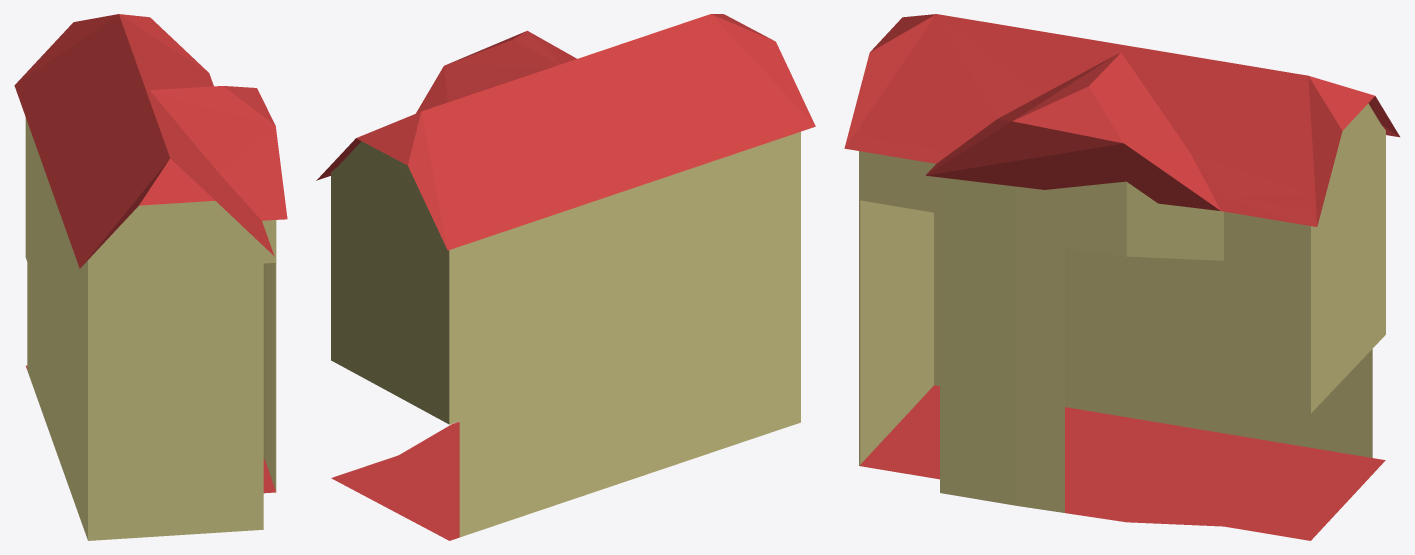
The picture shows the model from 3 angles, left to right: view 1: azimuth 30°, elevation 25°; view 2: azimuth 150°, elevation 25°; view 3: azimuth 270°, elevation 25°; orthographic projection. The views are drawn at different scales.
Parts seen in each view (by area): view 1: group_5, group_3, group_7, group_10, group_4, group_9; view 2: group_5, group_3, group_6, group_7, group_4; view 3: group_5, group_3, group_10, group_6, group_8, group_7, group_4, group_11, group_9.
Part boxes in pixels (left/top/right/bottom): group_5: left=25, top=118, right=263, bottom=540; group_3: left=14, top=14, right=274, bottom=268; group_7: left=150, top=86, right=287, bottom=220; group_10: left=262, top=220, right=276, bottom=492; group_4: left=16, top=17, right=265, bottom=266; group_9: left=251, top=88, right=286, bottom=220; group_5: left=331, top=131, right=800, bottom=537; group_3: left=316, top=14, right=815, bottom=250; group_6: left=331, top=429, right=459, bottom=540; group_7: left=416, top=31, right=576, bottom=113; group_4: left=320, top=14, right=814, bottom=249; group_5: left=859, top=103, right=1385, bottom=465; group_3: left=844, top=14, right=1399, bottom=226; group_10: left=940, top=177, right=1181, bottom=512; group_6: left=860, top=385, right=1385, bottom=540; group_8: left=925, top=121, right=1220, bottom=210; group_7: left=926, top=53, right=1220, bottom=210; group_4: left=846, top=17, right=1398, bottom=224; group_11: left=1065, top=505, right=1179, bottom=524; group_9: left=926, top=115, right=1219, bottom=209.
Size of the model in its own units: 17.49 by 24.45 by 20.29.
